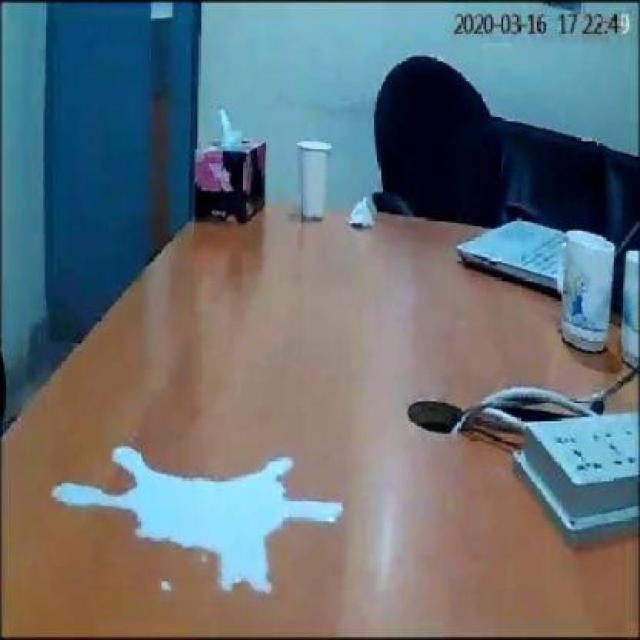spillage: (50, 449, 344, 594)
